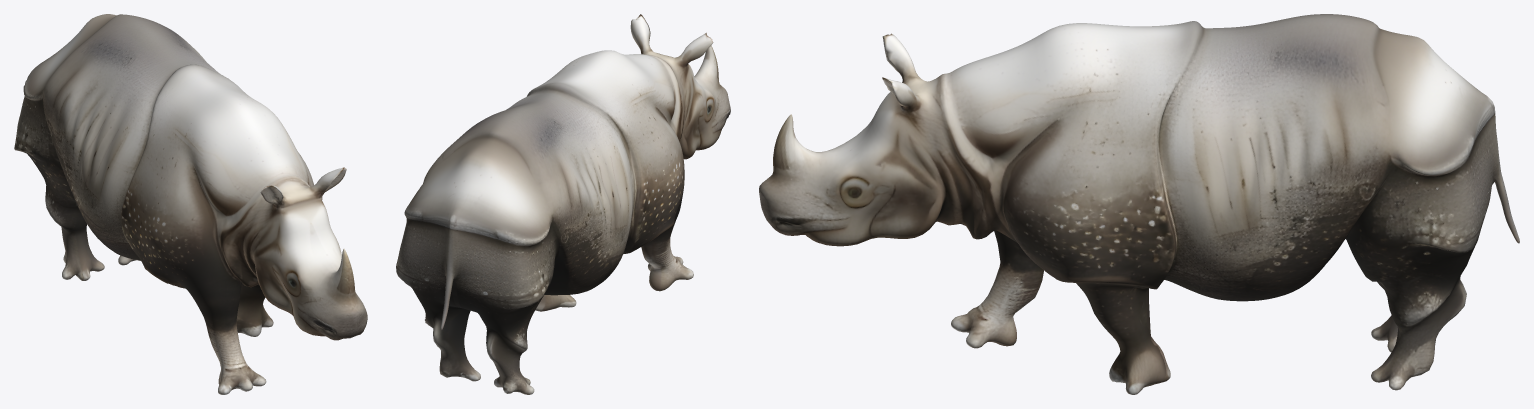
Rendered from Badag (1).fbx.
3 renders of one model, left to right at view 1: azimuth 30°, elevation 25°; view 2: azimuth 150°, elevation 25°; view 3: azimuth 270°, elevation 25°, orthographic. The views are drawn at different scales.
Parts seen in each view (by area): view 1: Cube; view 2: Cube; view 3: Cube.
Part boxes in pixels (box(x1,y1,x2,y2)): Cube: box(14, 14, 367, 394); Cube: box(396, 14, 730, 394); Cube: box(759, 14, 1519, 394).
Size of the model in its own units: 60.64 by 95.38 by 190.
